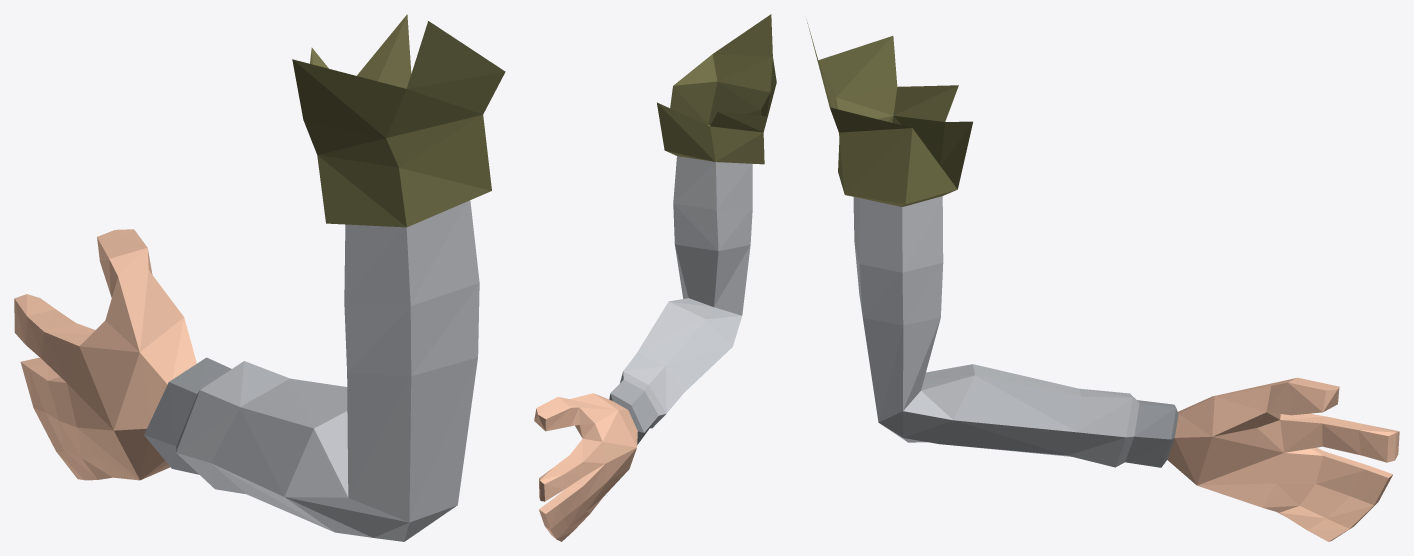
File: Daughter_01_ArmL_78_01_A.obj
3 views of the same model, side by side, from view 1: azimuth 30°, elevation 25°; view 2: azimuth 150°, elevation 25°; view 3: azimuth 270°, elevation 25° (orthographic). The views are drawn at different scales.
Parts seen in each view (by area): view 1: Daughter_01_ArmL_78_01_A; view 2: Daughter_01_ArmL_78_01_A; view 3: Daughter_01_ArmL_78_01_A.
Part boxes in pixels (<box>): Daughter_01_ArmL_78_01_A: <box>14,14,505,541</box>; Daughter_01_ArmL_78_01_A: <box>534,14,776,541</box>; Daughter_01_ArmL_78_01_A: <box>807,22,1399,541</box>.
Bounding box in the file's own units: 0.1622 × 0.5764 × 0.5989.
Materials: 1 (1 with a texture image).
